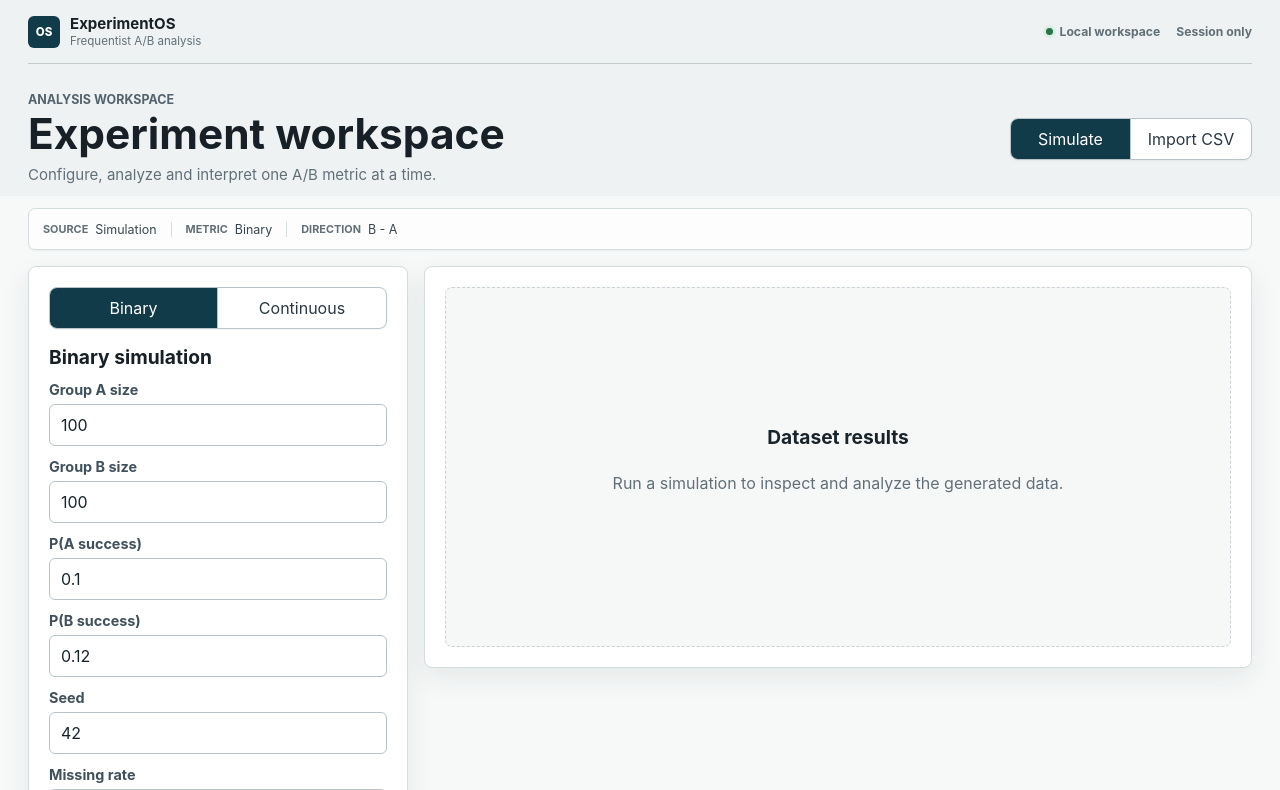
App › runs a continuous simulation with the Student t-test
Click the button "Continuous" at (302, 308), box left=218, top=288, right=386, bottom=328
(page scrolled)
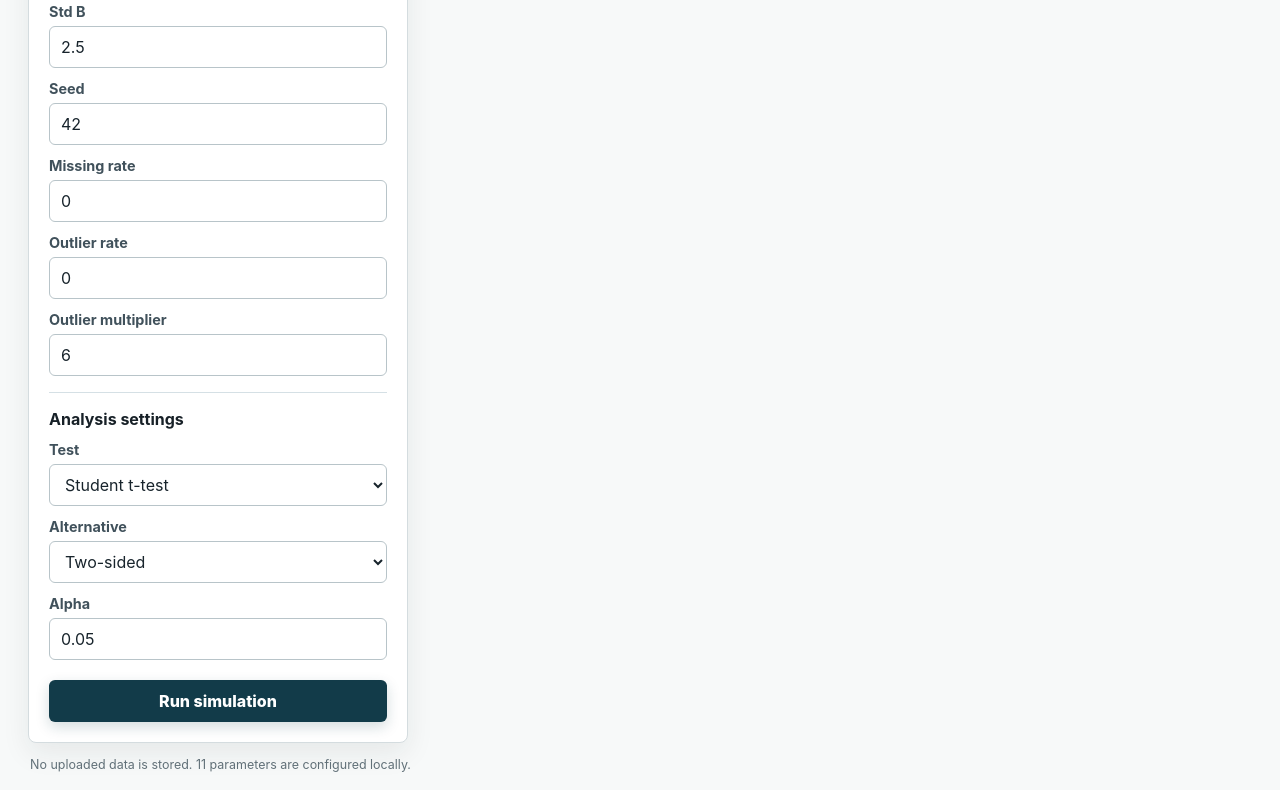
Select "B greater than A" in the dropdown labelled "Alternative" at (218, 562), box left=49, top=541, right=387, bottom=583
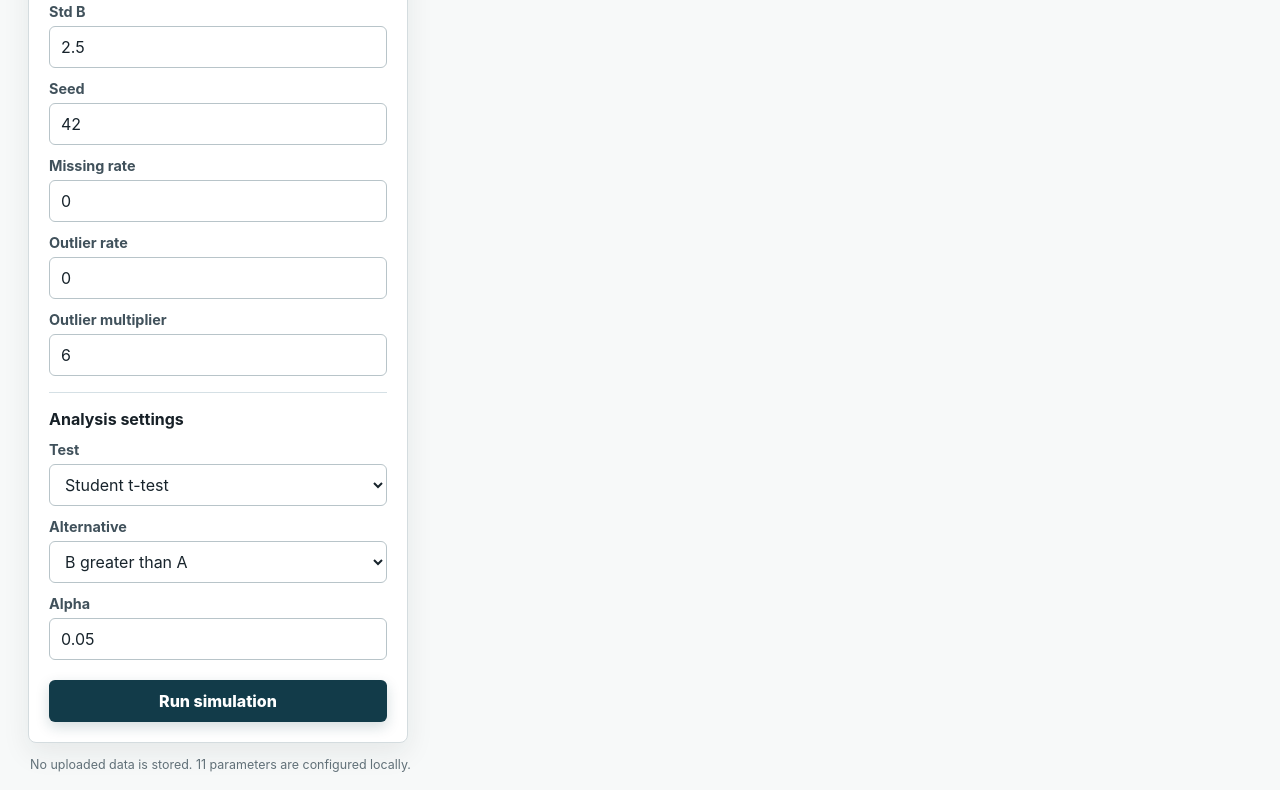
Click the button "Run simulation" at (218, 701), box left=49, top=680, right=387, bottom=722
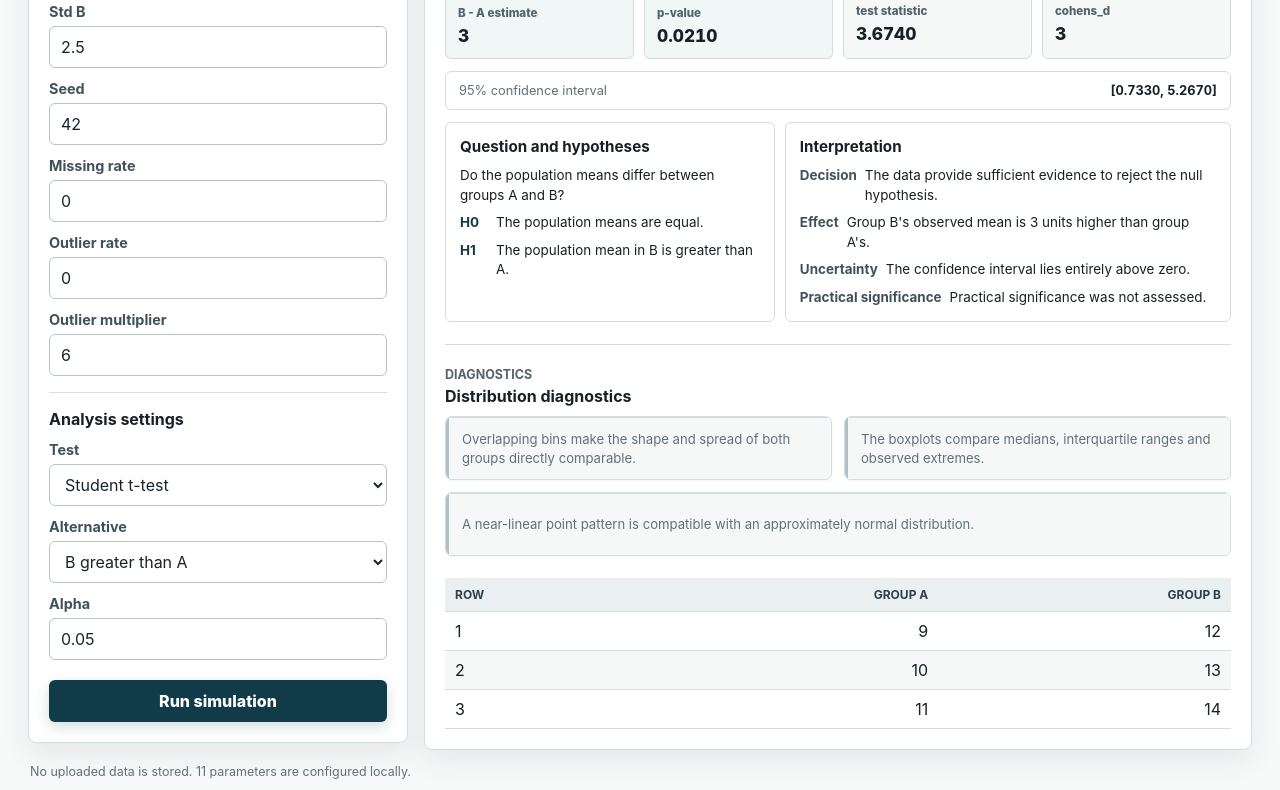
Result: the element named "Deterministic interpretation" shows "Group B's observed mean is 3 units higher" at left=847, top=214, right=1189, bottom=250
